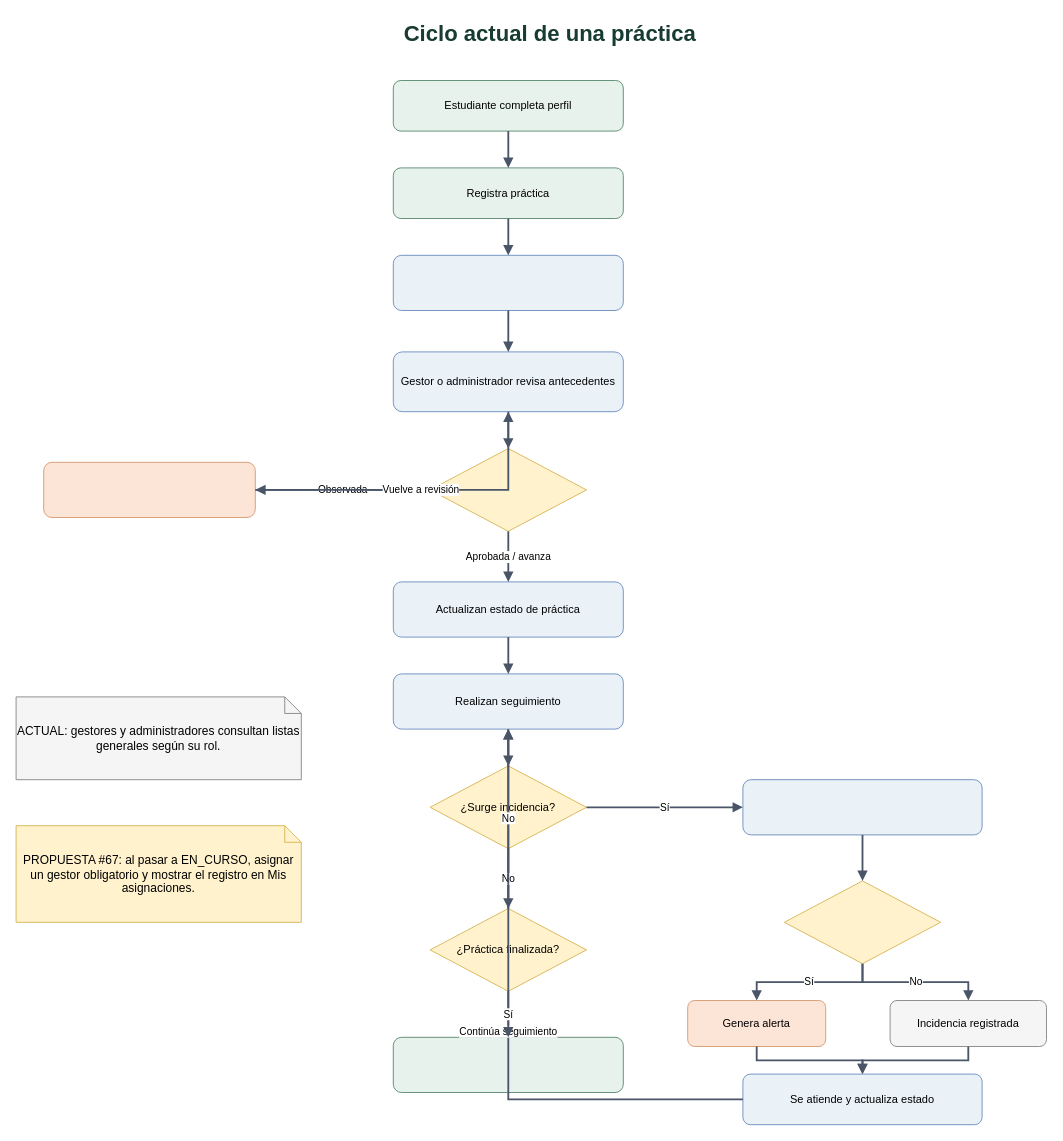
This 1063x1141 diagram has some shape labels left out. Each missing label, with the box of its shape:
Consulta historial y cierre: (392, 1036, 623, 1092)
Estudiante responde observación: (43, 461, 255, 518)
Gestor o administrador registra incidencia: (742, 779, 982, 835)
Resultado de revisión: (429, 448, 586, 531)
Solicitud disponible para revisión: (392, 254, 623, 310)
¿Prioridad alta o crítica?: (783, 880, 941, 964)
